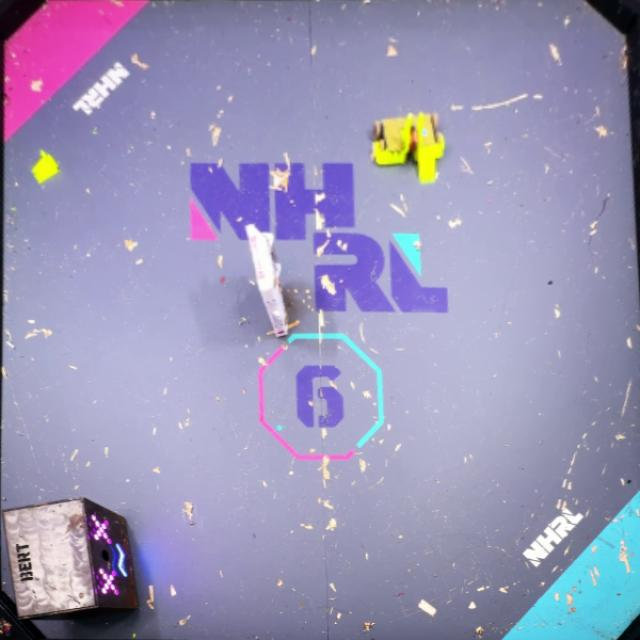housebot: (2, 498, 136, 620)
robot: (375, 110, 448, 182), (245, 223, 290, 333)
